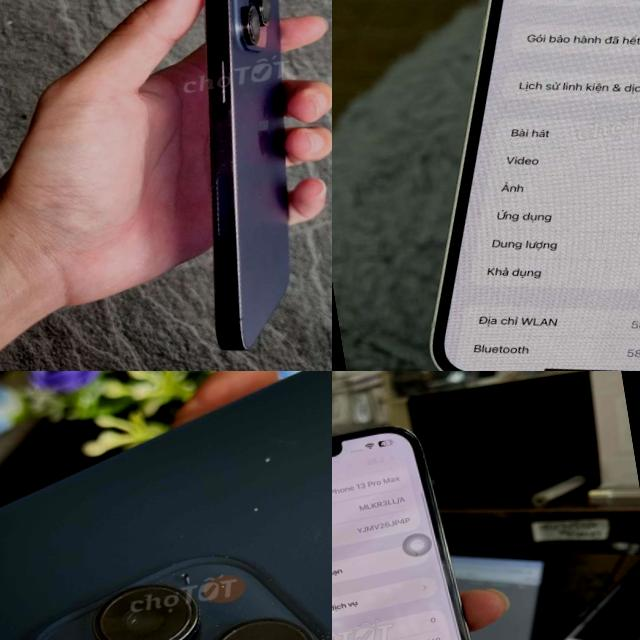gen_12_13: (332, 426, 471, 640)
gen_14: (346, 0, 640, 371), (139, 0, 332, 365)
gen_15: (0, 371, 332, 640)
scratch: (320, 371, 332, 403), (256, 451, 277, 467), (247, 504, 265, 515)
